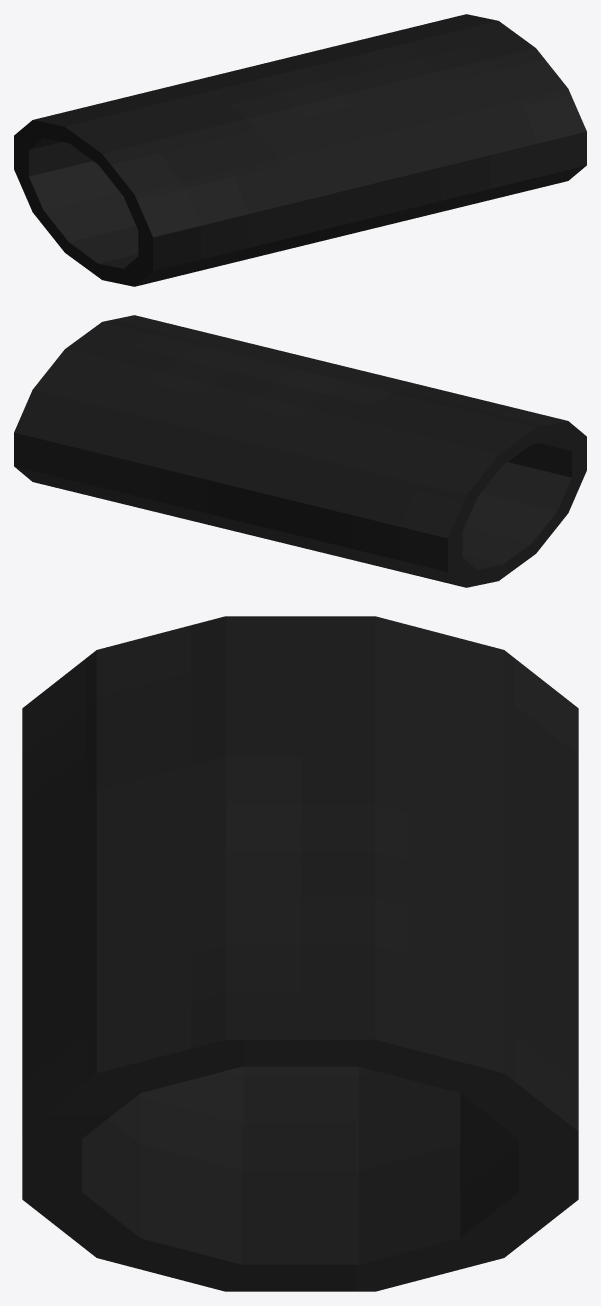
Rendered from coupler_dc_motor_reg.obj.
The picture shows the model from 3 angles, top to bottom: view 1: azimuth 30°, elevation 25°; view 2: azimuth 150°, elevation 25°; view 3: azimuth 270°, elevation 25°; orthographic projection. The views are drawn at different scales.
Parts seen in each view (by area): view 1: tube; view 2: tube; view 3: tube.
Boxes of the visible parts, <box> form: tube: <box>14,14,586,286</box>; tube: <box>14,315,586,587</box>; tube: <box>22,616,578,1291</box>.
Bounding box in the file's own units: 0.5625 × 0.1562 × 0.3125.
Materials: 1 (1 with a texture image).
